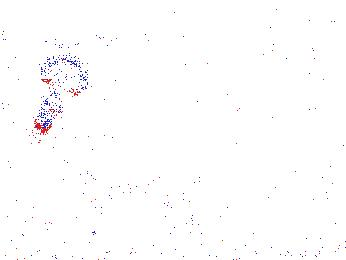flame jellyfish: (34, 51, 90, 132), (141, 171, 201, 229), (80, 165, 132, 219)
